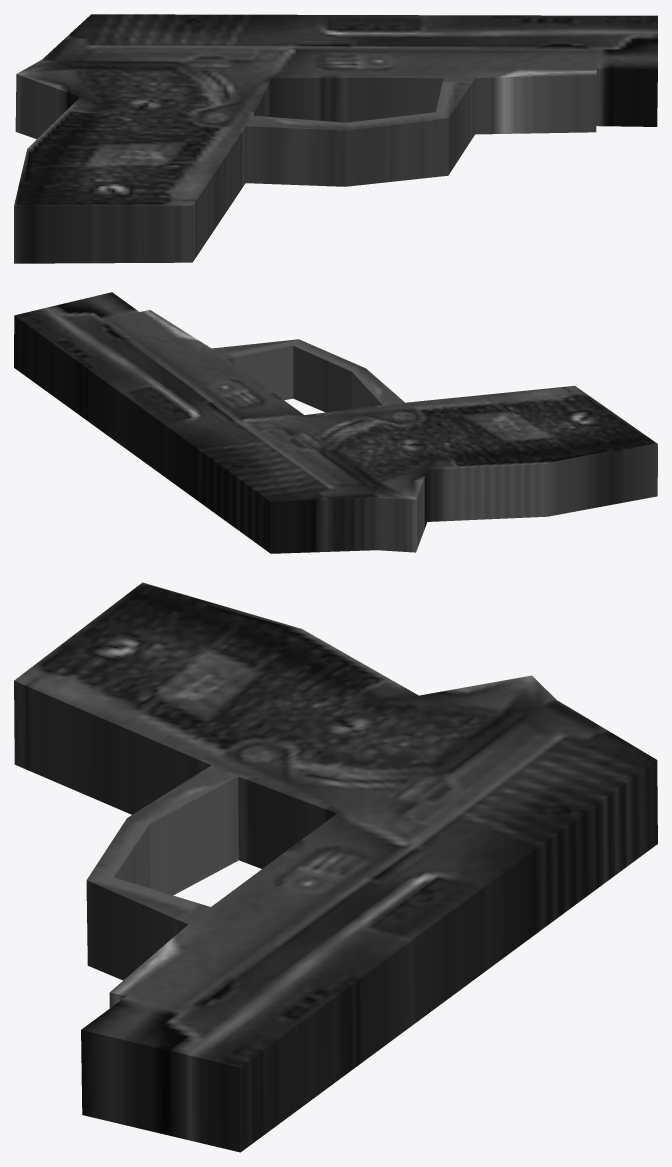
Rendered from p228-drop.glb.
The picture shows the model from 3 angles, top to bottom: view 1: azimuth 30°, elevation 25°; view 2: azimuth 150°, elevation 25°; view 3: azimuth 270°, elevation 25°; orthographic projection. The views are drawn at different scales.
Parts seen in each view (by area): view 1: p228 dropped.001; view 2: p228 dropped.001; view 3: p228 dropped.001.
Part boxes in pixels (box(x1,y1,x2,y2)): p228 dropped.001: box(14, 14, 657, 263); p228 dropped.001: box(14, 292, 657, 553); p228 dropped.001: box(14, 582, 657, 1152).
Bounding box in the file's own units: 0.2361 × 0.0201 × 0.1321.
Materials: 1 (1 with a texture image).
